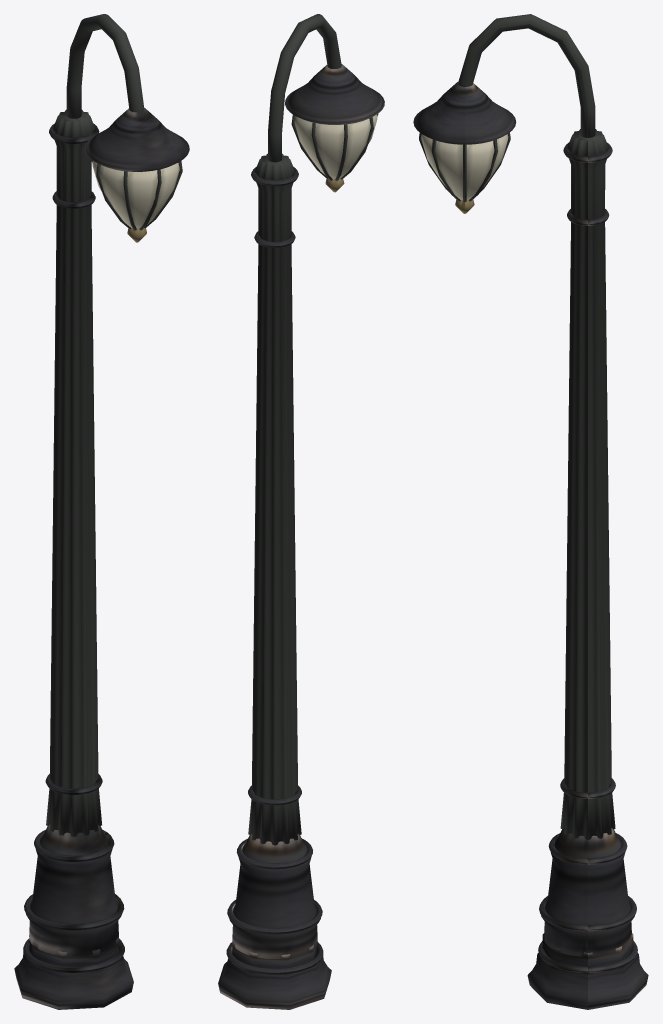
The model's file is riverside-lamp.glb.
3 renders of one model, left to right at view 1: azimuth 30°, elevation 25°; view 2: azimuth 150°, elevation 25°; view 3: azimuth 270°, elevation 25°, orthographic. The views are drawn at different scales.
Visible parts, largest first — view 1: Frame; view 2: Frame; view 3: Frame.
Boxes of the visible parts, <box> form: Frame: <box>14,14,189,1009</box>; Frame: <box>218,14,384,1009</box>; Frame: <box>413,14,648,1009</box>.
Bounding box in the file's own units: 0.56 × 4.95 × 1.09.
Materials: 4 (1 with a texture image).
